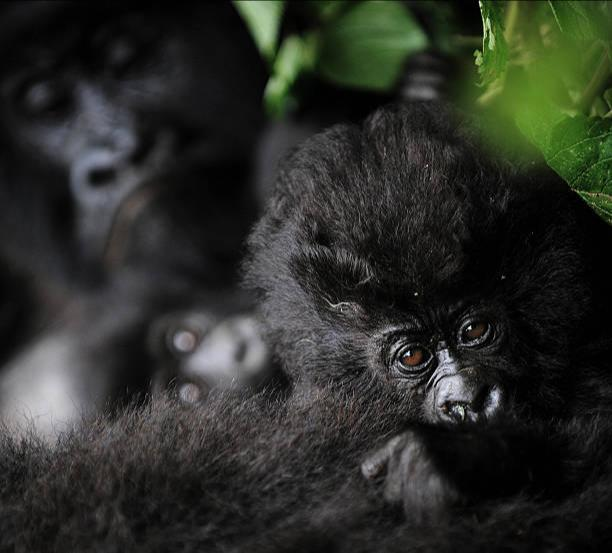goriile_montagne: (243, 104, 612, 553), (3, 0, 293, 354)
